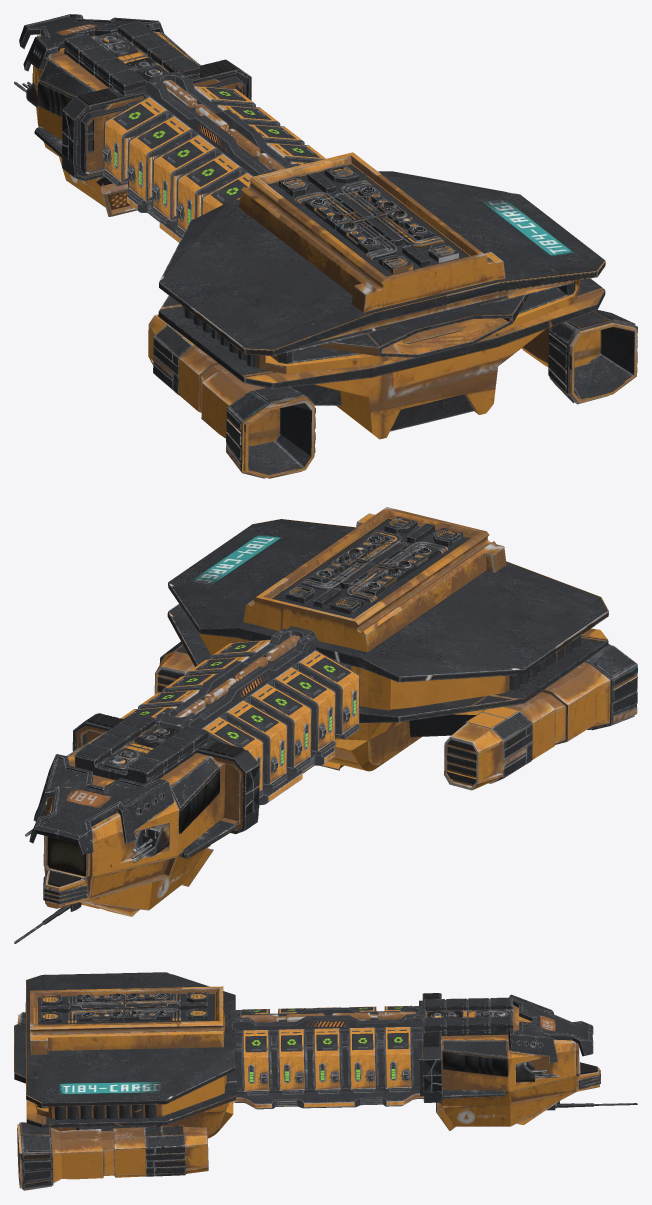
The model's file is cargo.glb.
3 views of the same model, one above another, from view 1: azimuth 30°, elevation 25°; view 2: azimuth 150°, elevation 25°; view 3: azimuth 270°, elevation 25° (orthographic). The views are drawn at different scales.
Parts seen in each view (by area): view 1: defaultMaterial (×3); view 2: defaultMaterial (×3); view 3: defaultMaterial (×3).
Part boxes in pixels (bbox=[...]): defaultMaterial (×3): bbox=[14, 14, 637, 478]; defaultMaterial (×3): bbox=[14, 507, 637, 943]; defaultMaterial (×3): bbox=[14, 972, 637, 1190].
Bounding box in the file's own units: 8822 × 3787 × 16478.
3 materials, 3 textured.
